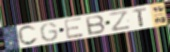B: (84, 14, 107, 36)
C: (17, 25, 40, 47)
E: (63, 16, 86, 40)
G: (40, 22, 60, 42)
T: (131, 7, 148, 27)
Z: (108, 9, 132, 33)
